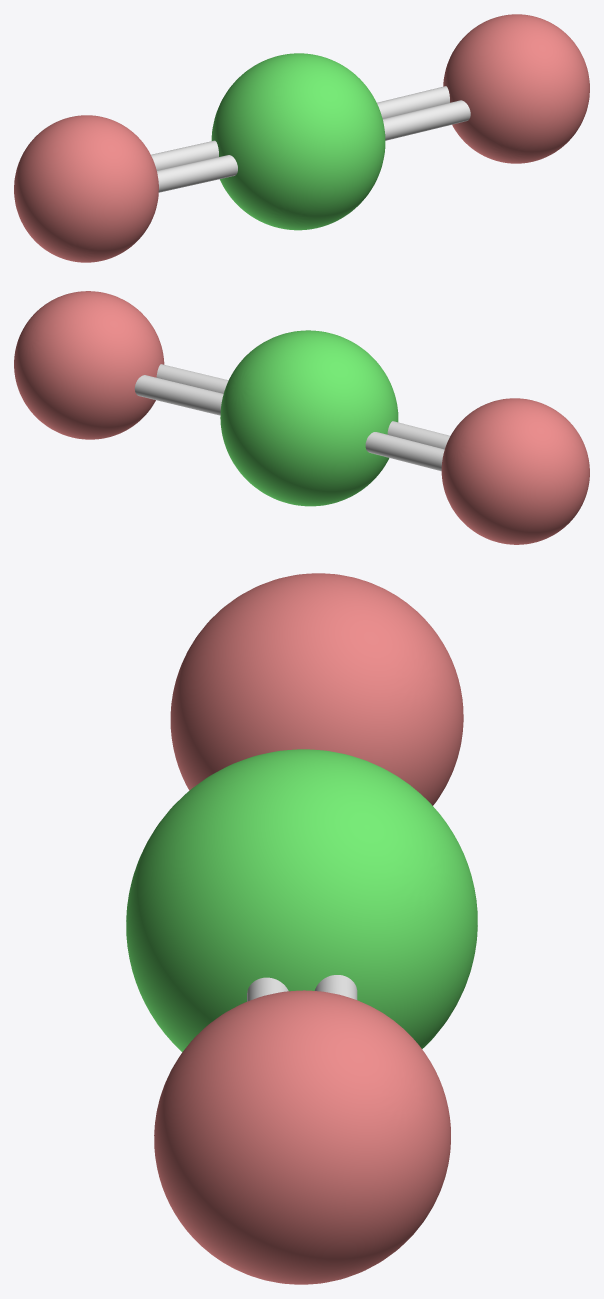
3 views of the same model, one above another, from view 1: azimuth 30°, elevation 25°; view 2: azimuth 150°, elevation 25°; view 3: azimuth 270°, elevation 25° (orthographic). The views are drawn at different scales.
Visible parts, largest first — view 1: C02; view 2: C02; view 3: C02.
Part boxes in pixels (x1,y1,x2,y2): C02: (14, 14, 589, 262); C02: (14, 291, 589, 544); C02: (126, 573, 477, 1284).
Bounding box in the file's own units: 321 × 87.92 × 88.27.
